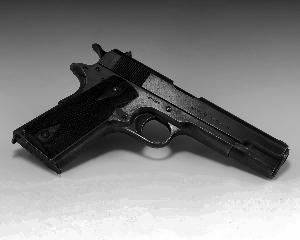handgun: (13, 41, 288, 187)
